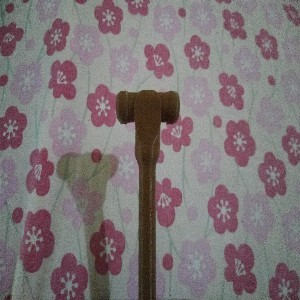palu: (114, 89, 181, 300)
